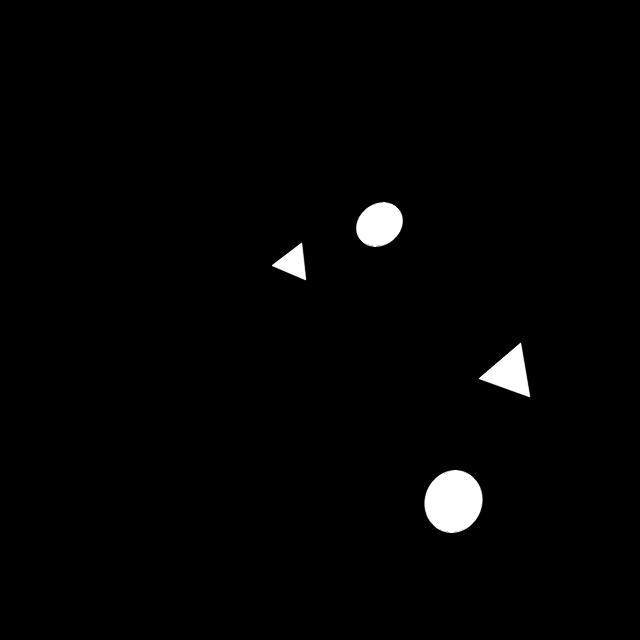Circle: (410, 462, 488, 540), (343, 186, 413, 264)
Triangle: (469, 324, 544, 409), (261, 233, 317, 288)
